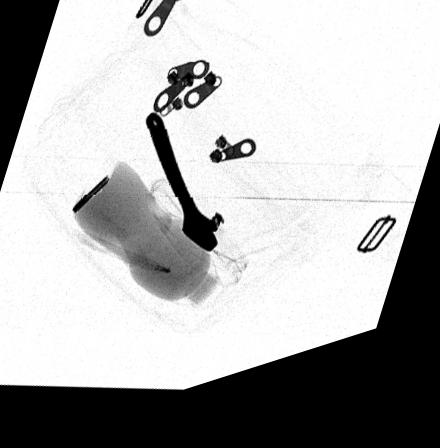Wrench: (143, 122, 218, 265)
